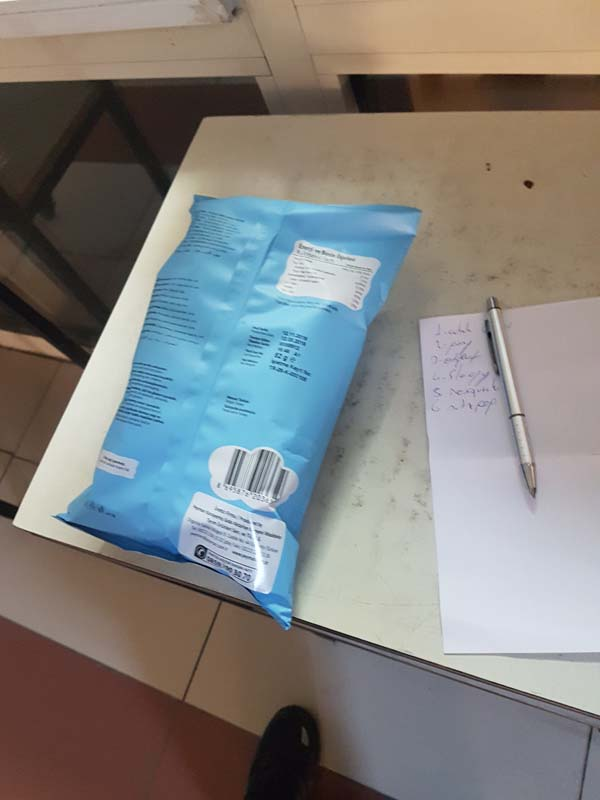popcorn: (50, 193, 435, 619)
